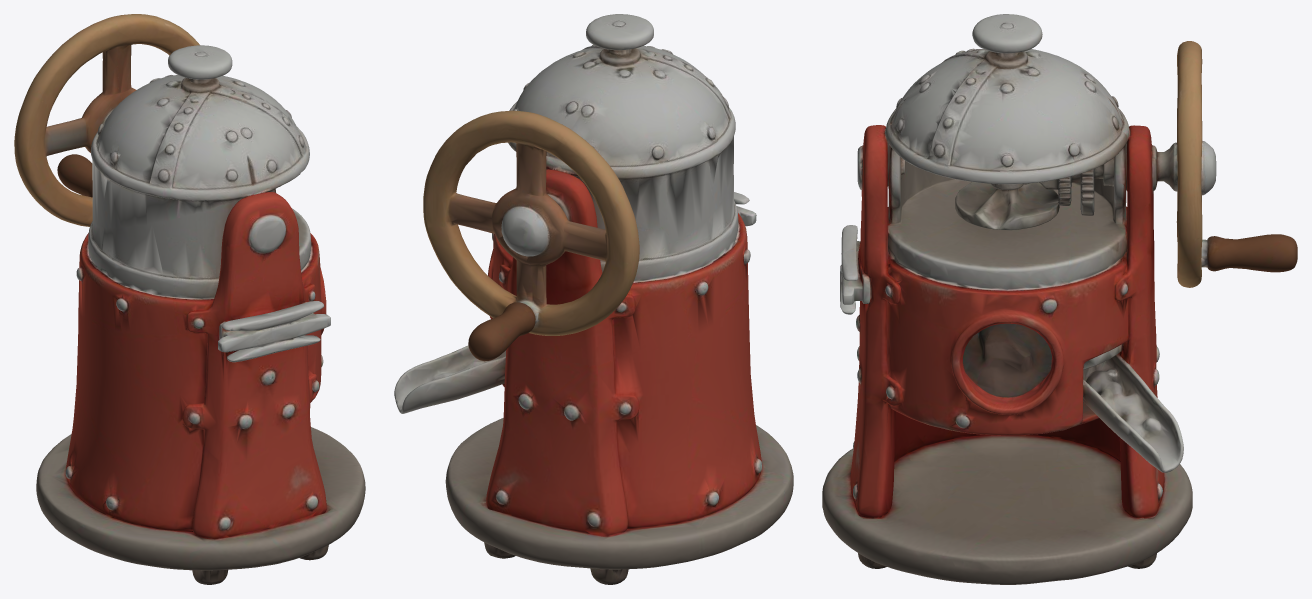
Rendered from JP_사물_s2_machine_kakigori_old.glb.
The picture shows the model from 3 angles, left to right: view 1: azimuth 30°, elevation 25°; view 2: azimuth 150°, elevation 25°; view 3: azimuth 270°, elevation 25°; orthographic projection. The views are drawn at different scales.
Parts seen in each view (by area): view 1: tripo_node_f841cd8c-dee3-4d14-999f-01bba96a670f; view 2: tripo_node_f841cd8c-dee3-4d14-999f-01bba96a670f; view 3: tripo_node_f841cd8c-dee3-4d14-999f-01bba96a670f.
Boxes of the visible parts, bbox=[...] form: tripo_node_f841cd8c-dee3-4d14-999f-01bba96a670f: bbox=[14, 14, 365, 584]; tripo_node_f841cd8c-dee3-4d14-999f-01bba96a670f: bbox=[394, 14, 793, 584]; tripo_node_f841cd8c-dee3-4d14-999f-01bba96a670f: bbox=[822, 14, 1297, 584].
Bounding box in the file's own units: 0.635 × 0.9998 × 0.8435.
1 material, 1 textured.
